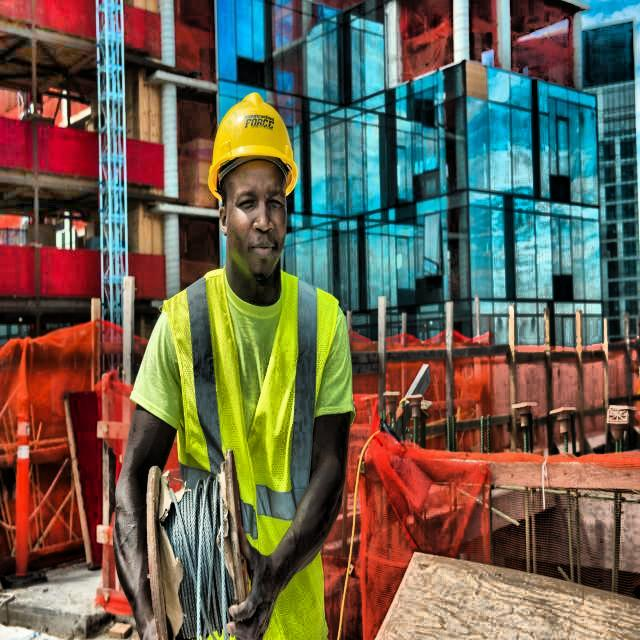person: (112, 68, 359, 632)
